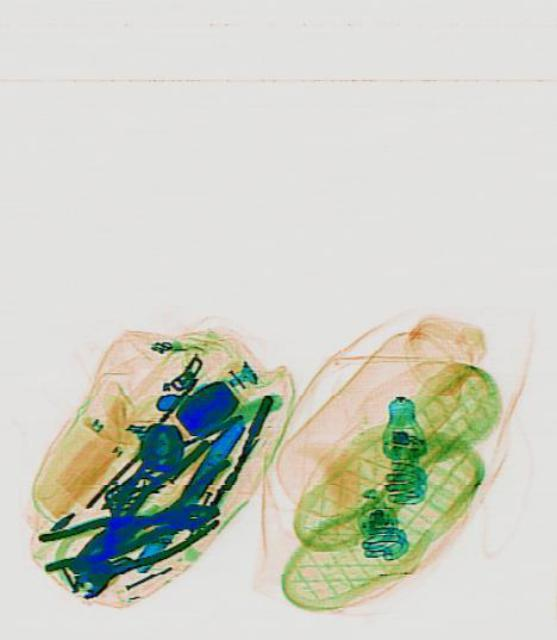Pliers: (42, 444, 221, 626), (57, 429, 233, 587), (32, 488, 221, 576)
